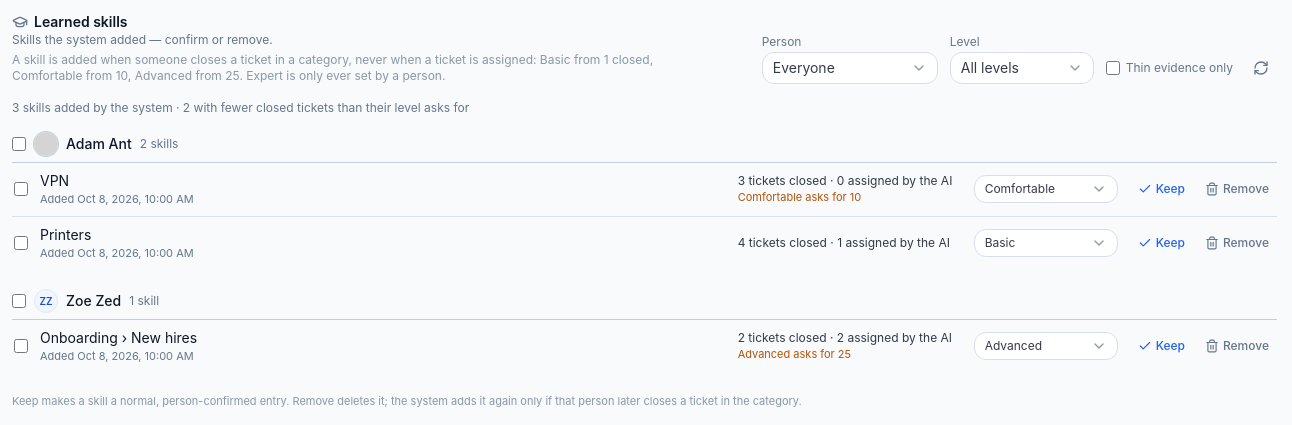
Test: LearnedSkillsTab › Keep confirms one skill and takes it off the list
Click the button with aria-label "Keep VPN for Adam Ant" at point(1161, 189), box [1130, 175, 1193, 203]
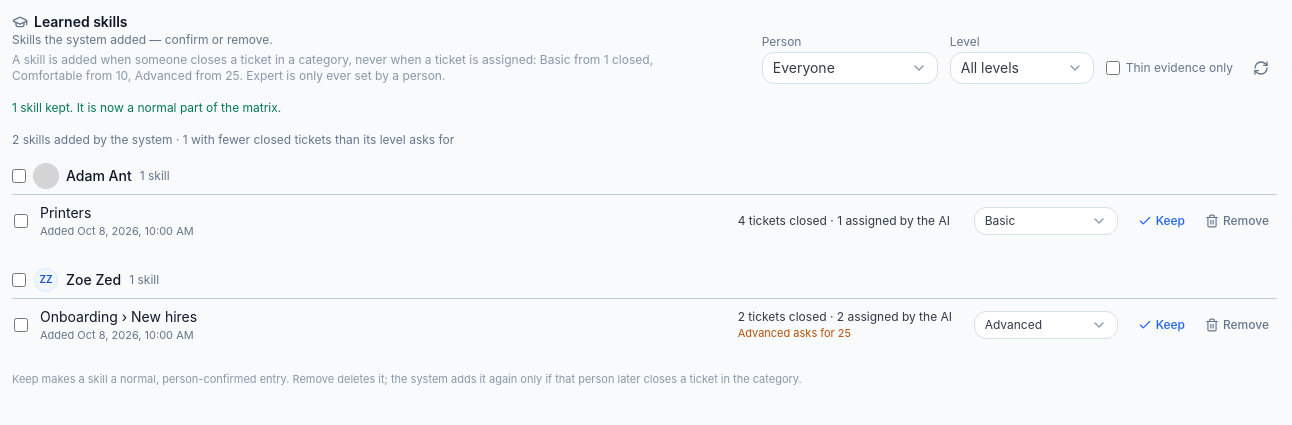
Expected: the number of list items with test id "learned-row" is 2, [12, 195, 1277, 248]; [12, 298, 1277, 351]
Expected: the text "VPN" is gone
Expected: the message shows "1 skill kept", [12, 100, 281, 115]
